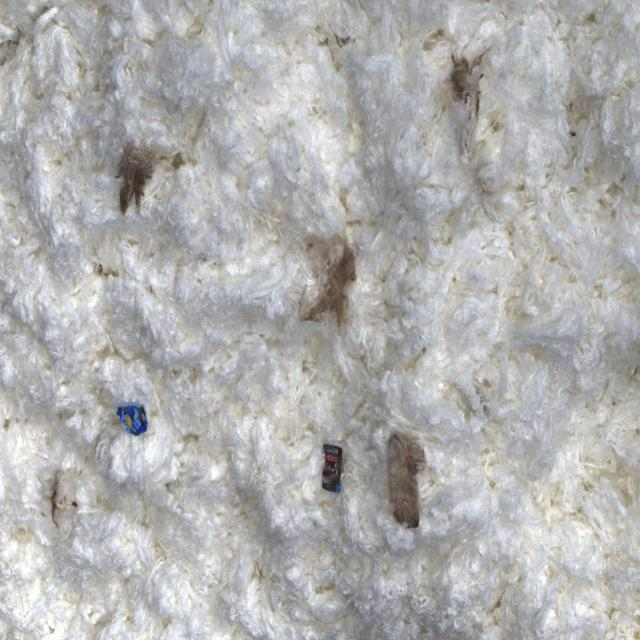dust: (112, 117, 197, 238), (293, 229, 363, 334), (382, 415, 430, 547), (446, 46, 500, 145), (310, 427, 352, 505), (110, 388, 157, 451), (46, 464, 73, 532), (316, 28, 358, 58), (421, 22, 455, 52)
